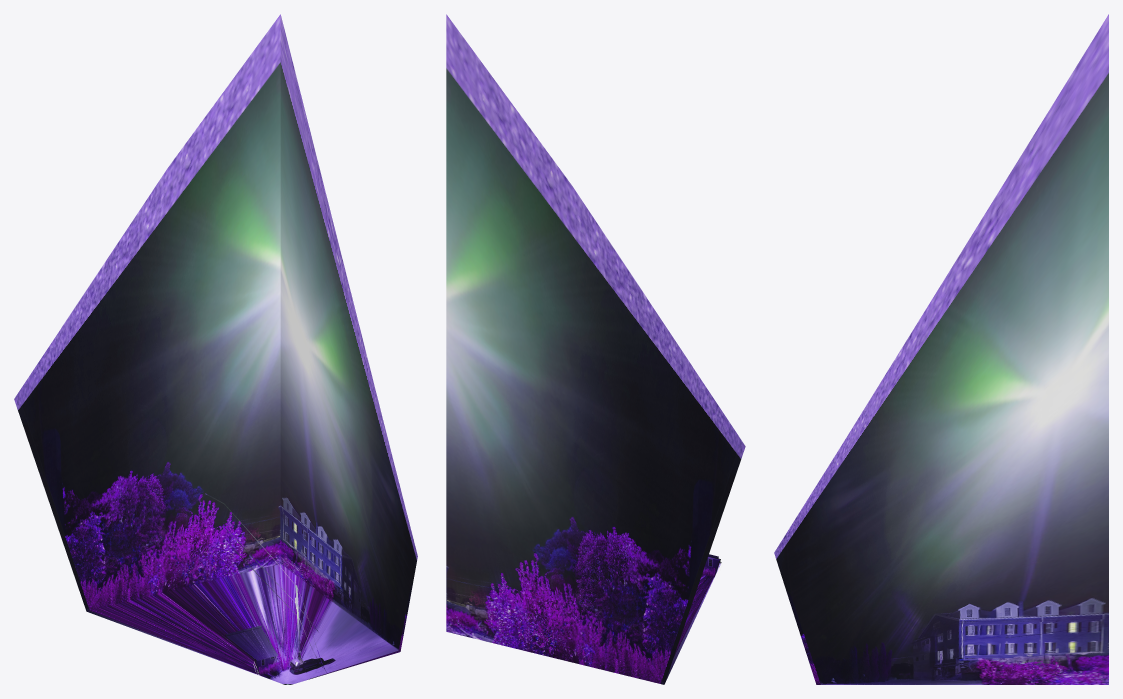
3 views of the same model, side by side, from view 1: azimuth 30°, elevation 25°; view 2: azimuth 150°, elevation 25°; view 3: azimuth 270°, elevation 25° (orthographic). The views are drawn at different scales.
Visible parts, largest first — view 1: Backsplash, House, Telephone pole; view 2: Backsplash; view 3: Backsplash.
Part boxes in pixels (x1=…): Backsplash: x1=14, y1=14, x2=417, y2=684; House: x1=225, y1=625, x2=277, y2=675; Telephone pole: x1=205, y1=493, x2=326, y2=672; Backsplash: x1=446, y1=14, x2=745, y2=684; Backsplash: x1=774, y1=14, x2=1108, y2=684.
Bounding box in the file's own units: 208 × 411 × 186.
3 materials, 2 textured.
